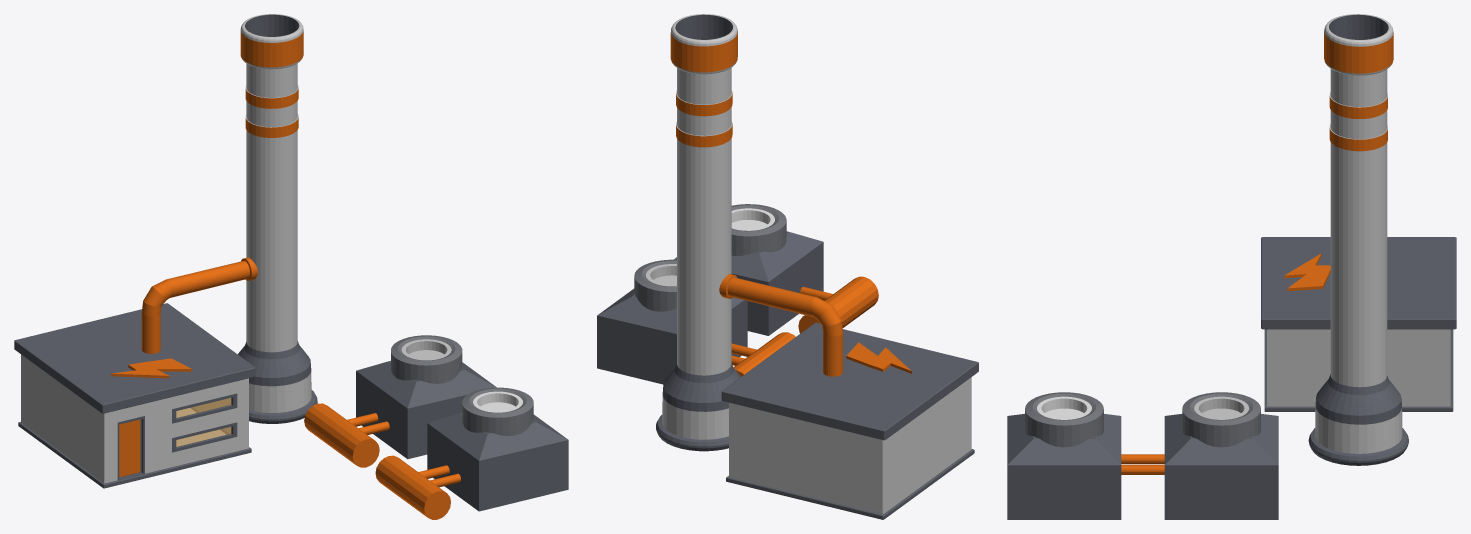
File: PowerplantModel.fbx
3 views of the same model, side by side, from view 1: azimuth 30°, elevation 25°; view 2: azimuth 150°, elevation 25°; view 3: azimuth 270°, elevation 25° (orthographic). The views are drawn at different scales.
Visible parts, largest first — view 1: Cube.001; view 2: Cube.001; view 3: Cube.001.
Boxes of the visible parts, x1,y1,x2,y2 form: Cube.001: (14,14,568,519); Cube.001: (597,14,978,519); Cube.001: (1007,14,1456,519).
Bounding box in the file's own units: 2.84 × 2.94 × 2.86.
